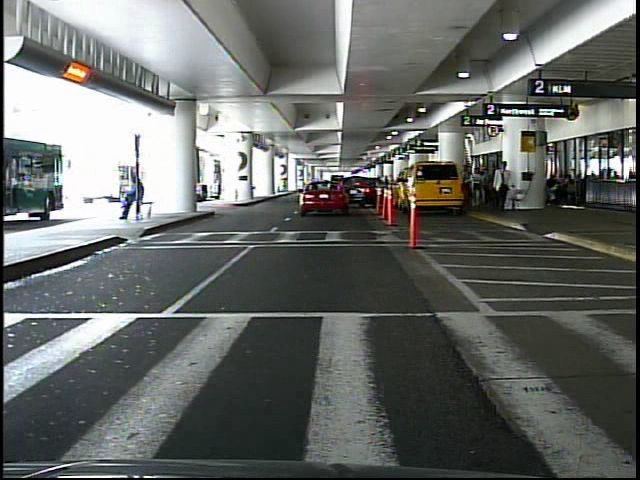person: (494, 160, 513, 213), (470, 166, 484, 210), (482, 166, 494, 211)
